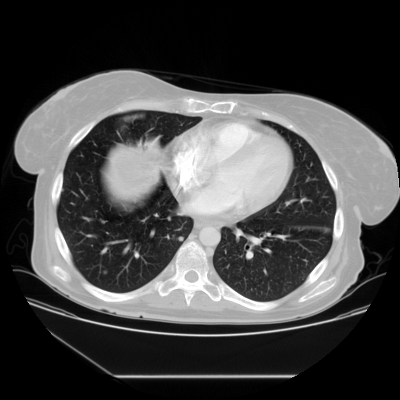nodule: (178, 236, 184, 242)
